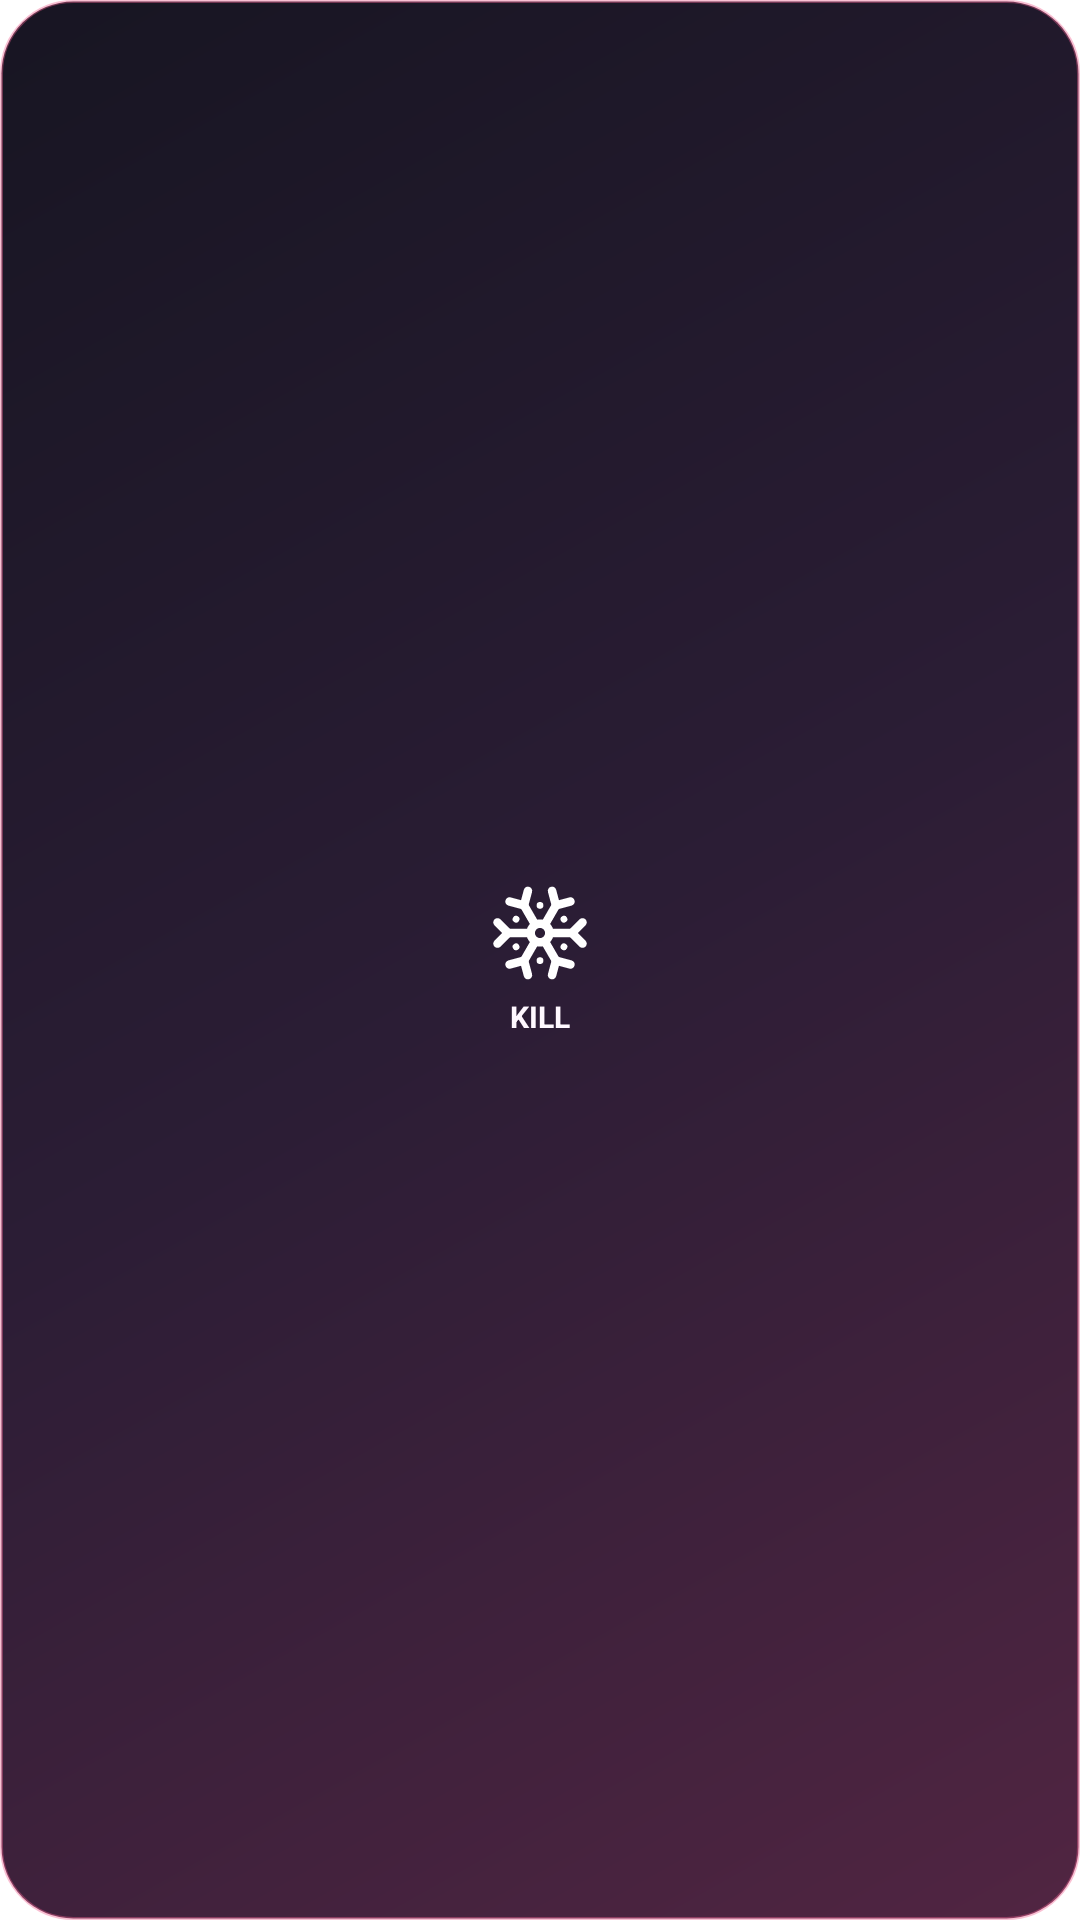

Where icons sit on this 1080 x 1920 app screen, as bbox(x1, y1, x2, y2):
snow: bbox(493, 886, 587, 980)
